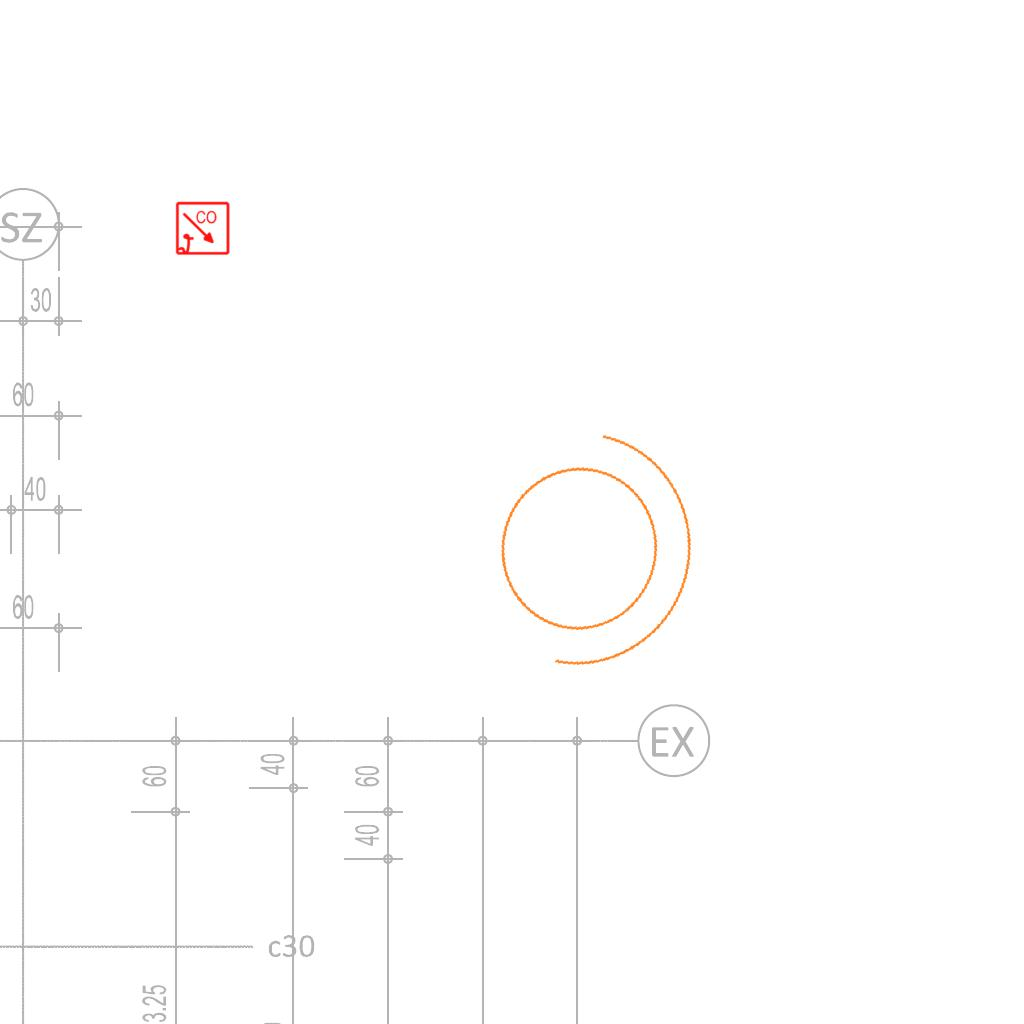ROA_Rauchmelder_optisch_mit_Signalgeber_(Sockelsirene): (175, 201, 231, 257)
Scheinwerfer_fuer_Alarmbeleuchtung: (452, 391, 728, 698)
